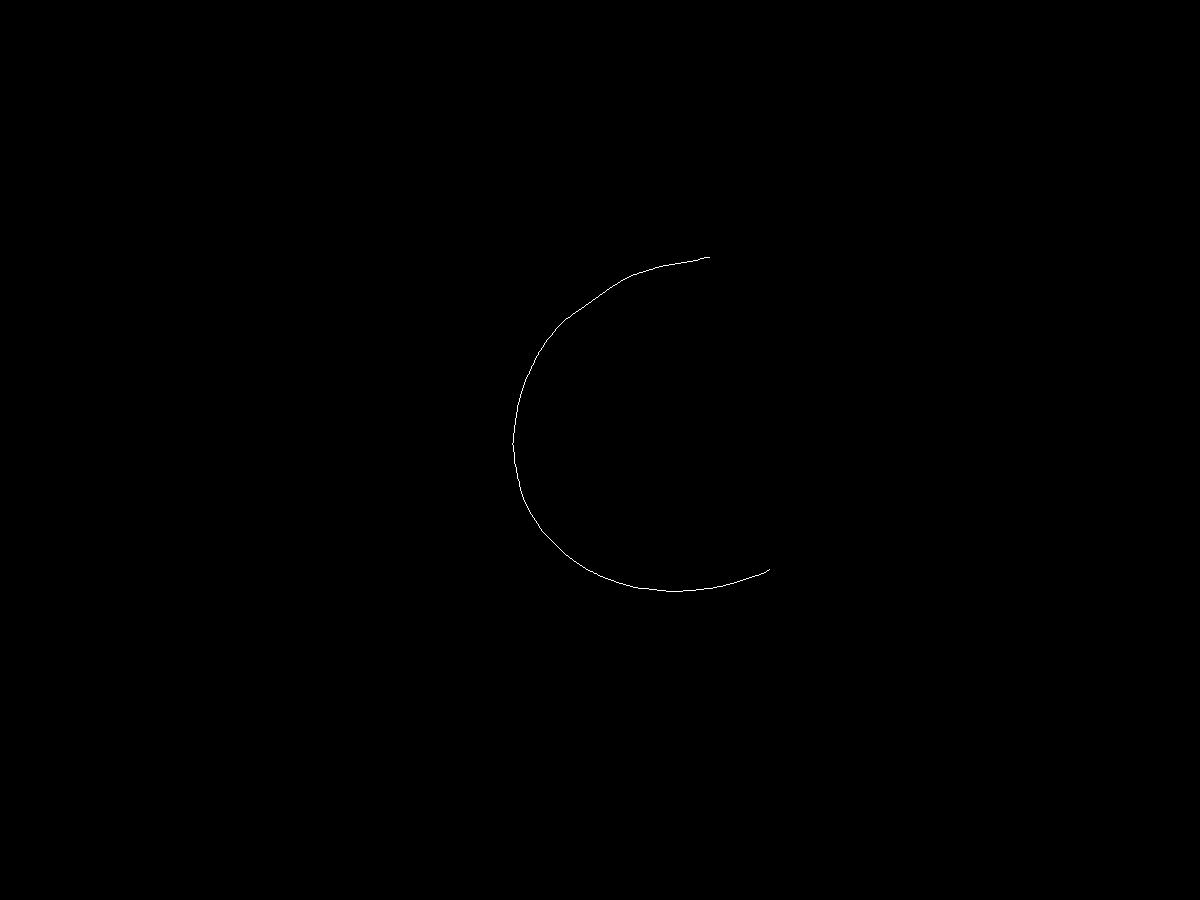dian1: (699, 248, 718, 269)
dian2: (764, 555, 793, 578)
